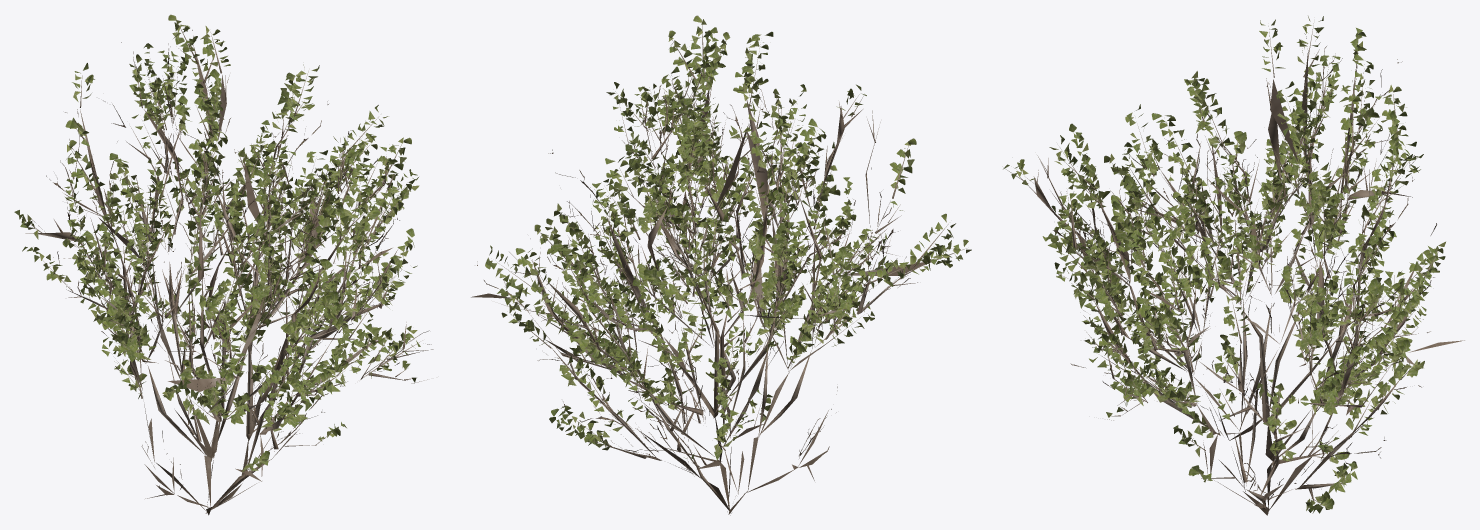
The model's file is searsia_lucida_a_LOD0.glb.
3 views of the same model, side by side, from view 1: azimuth 30°, elevation 25°; view 2: azimuth 150°, elevation 25°; view 3: azimuth 270°, elevation 25° (orthographic). The views are drawn at different scales.
Visible parts, largest first — view 1: searsia_lucida_a_LOD0; view 2: searsia_lucida_a_LOD0; view 3: searsia_lucida_a_LOD0.
Part boxes in pixels (x1,y1,x2,y2): searsia_lucida_a_LOD0: (14,14,433,515); searsia_lucida_a_LOD0: (471,15,971,515); searsia_lucida_a_LOD0: (1003,16,1464,515).
Size of the model in its own units: 1.79 by 2.33 by 1.96.
Materials: 3 (3 with a texture image).
